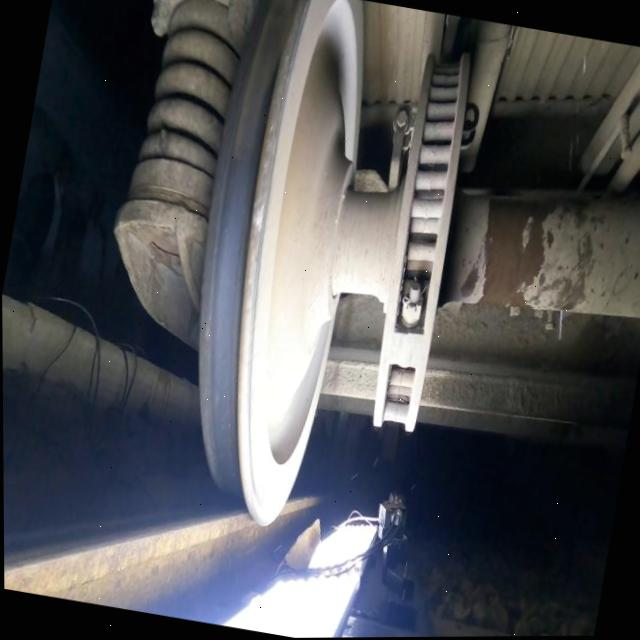Cracks-Scratches: (251, 197, 266, 233)
Shelling: (230, 0, 296, 158)
Wheel: (198, 0, 363, 524)
